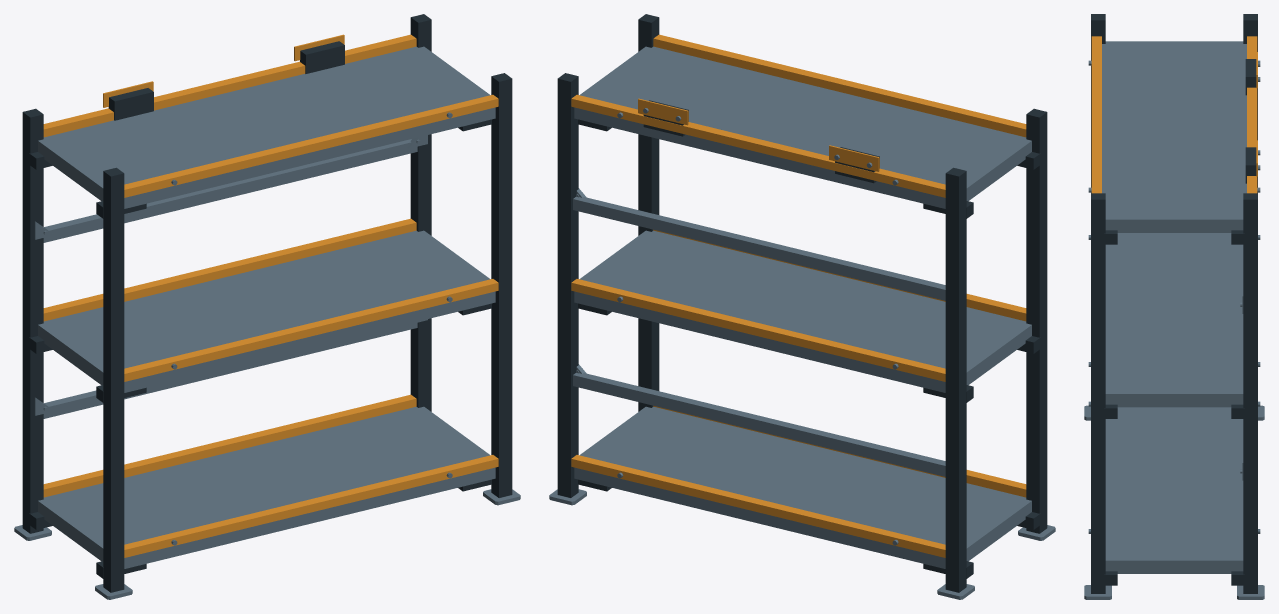
3 renders of one model, left to right at view 1: azimuth 30°, elevation 25°; view 2: azimuth 150°, elevation 25°; view 3: azimuth 270°, elevation 25°, orthographic. The views are drawn at different scales.
Parts seen in each view (by area): view 1: Shelf_2_Deck, Shelf_0_Deck, Shelf_1_Deck, Rack_Post_-1.015_0.365, Rack_Post_1.015_0.365, Rack_Post_-1.015_-0.365, Shelf_0_Lip_0.375, Shelf_2_Lip_0.375, Shelf_1_Lip_0.375, Back_Support_1.48, Shelf_0_Lip_-0.375, Shelf_1_Lip_-0.375 (+5 smaller); view 2: Shelf_0_Deck, Shelf_1_Deck, Shelf_2_Deck, Rack_Post_-1.015_-0.365, Rack_Post_1.015_-0.365, Rack_Post_-1.015_0.365, Back_Support_0.6, Back_Support_1.48, Shelf_2_Lip_0.375, Shelf_0_Lip_-0.375, Shelf_1_Lip_-0.375, Shelf_2_Lip_-0.375 (+5 smaller); view 3: Shelf_2_Deck, Shelf_1_Deck, Shelf_0_Deck, Rack_Post_1.015_-0.365, Rack_Post_1.015_0.365, Shelf_2_Lip_0.375, Shelf_2_Lip_-0.375, Rack_Post_-1.015_0.365, Rack_Post_-1.015_-0.365, Top_Label_R_MountingBackplate, Top_Label_L_MountingBackplate, Rack_FootPlate_RB (+1 smaller).
Part boxes in pixels (x1,y1,x2,y2): Shelf_2_Deck: (38,46,495,208); Shelf_0_Deck: (38,406,495,568); Shelf_1_Deck: (38,230,495,392); Rack_Post_-1.015_0.365: (103,167,124,592); Rack_Post_1.015_0.365: (491,73,512,497); Rack_Post_-1.015_-0.365: (22,108,43,533); Shelf_0_Lip_0.375: (124,455,498,557); Shelf_2_Lip_0.375: (124,94,498,197); Shelf_1_Lip_0.375: (124,279,498,381); Back_Support_1.48: (43,139,417,242); Shelf_0_Lip_-0.375: (43,394,416,497); Shelf_1_Lip_-0.375: (43,218,416,321); Shelf_0_Deck: (574,406,1031,568); Shelf_1_Deck: (574,230,1031,392); Shelf_2_Deck: (574,46,1031,208); Rack_Post_-1.015_-0.365: (945,167,966,592); Rack_Post_1.015_-0.365: (557,73,578,497); Rack_Post_-1.015_0.365: (1026,108,1047,533); Back_Support_0.6: (573,373,945,476); Back_Support_1.48: (573,196,945,300); Shelf_2_Lip_0.375: (653,34,1026,137); Shelf_0_Lip_-0.375: (571,455,945,557); Shelf_1_Lip_-0.375: (571,279,945,381); Shelf_2_Lip_-0.375: (571,94,945,197); Shelf_2_Deck: (1102,41,1246,232); Shelf_1_Deck: (1105,233,1243,407); Shelf_0_Deck: (1105,407,1243,573); Rack_Post_1.015_-0.365: (1243,193,1257,593); Rack_Post_1.015_0.365: (1091,193,1105,593); Shelf_2_Lip_0.375: (1091,36,1101,193); Shelf_2_Lip_-0.375: (1247,36,1257,193); Rack_Post_-1.015_0.365: (1091,14,1105,193); Rack_Post_-1.015_-0.365: (1243,14,1257,193); Top_Label_R_MountingBackplate: (1245,147,1256,183); Top_Label_L_MountingBackplate: (1245,59,1256,95); Rack_FootPlate_RB: (1237,585,1264,599).
Bounding box in the file's own units: 2.16 × 2.1 × 0.862.
